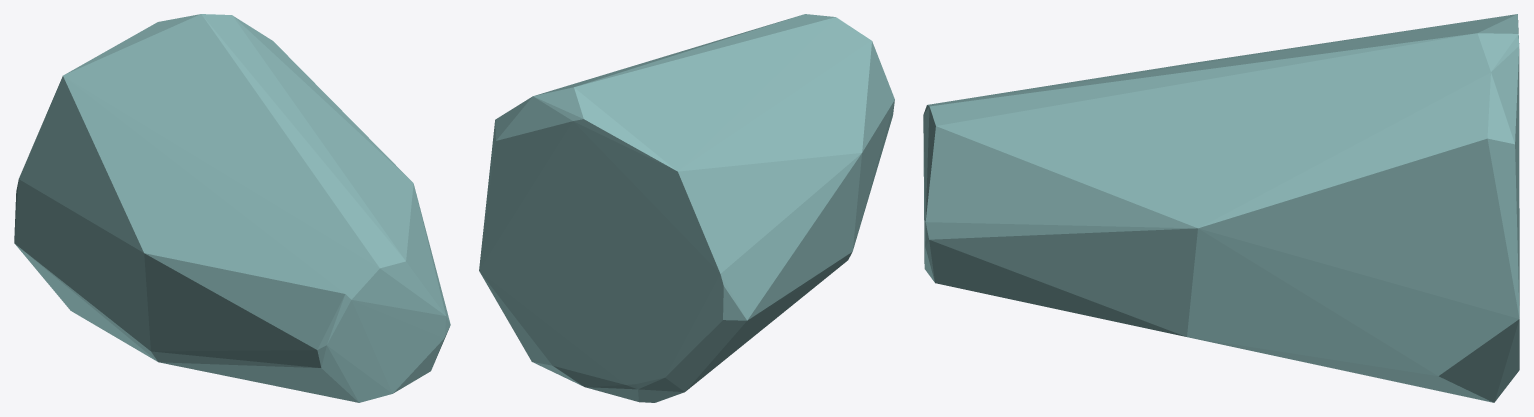
Rendered from container_bottle_glass_a01.glb.
The picture shows the model from 3 angles, left to right: view 1: azimuth 30°, elevation 25°; view 2: azimuth 150°, elevation 25°; view 3: azimuth 270°, elevation 25°; orthographic projection. The views are drawn at different scales.
Visible parts, largest first — view 1: geometry_0; view 2: geometry_0; view 3: geometry_0.
Boxes of the visible parts, x1,y1,x2,y2 form: geometry_0: [14, 14, 450, 402]; geometry_0: [479, 14, 894, 402]; geometry_0: [923, 14, 1519, 402].
Bounding box in the file's own units: 0.3206 × 0.322 × 0.4794.
